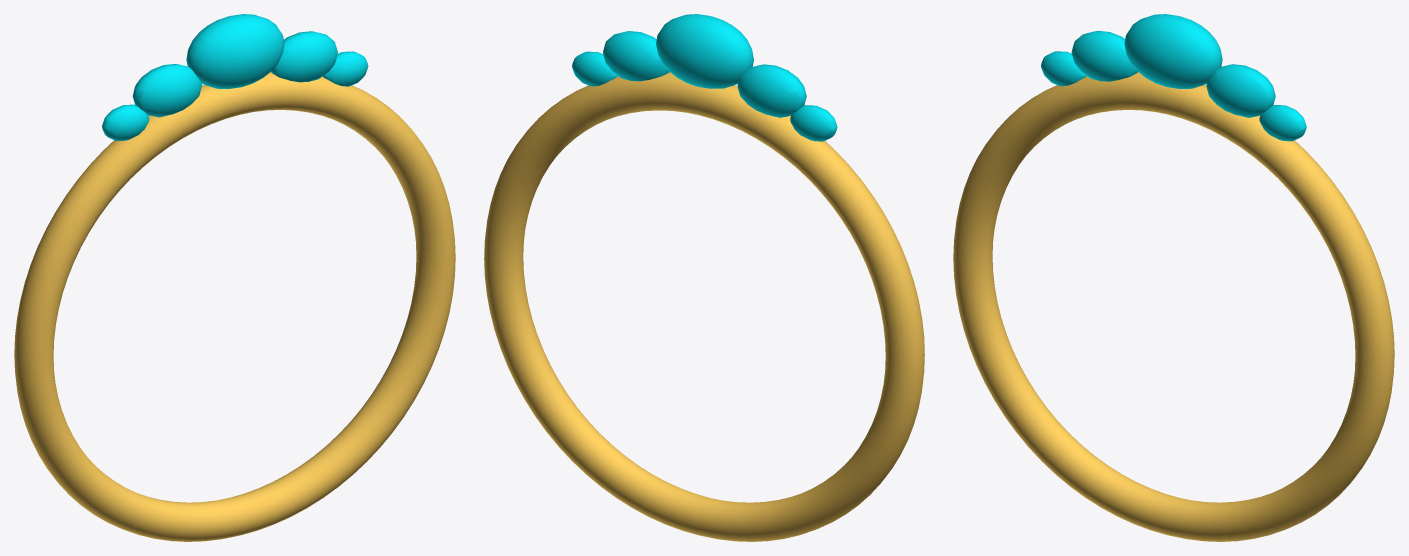
Rendered from RewardItem_Bracelet.fbx.
The picture shows the model from 3 angles, left to right: view 1: azimuth 30°, elevation 25°; view 2: azimuth 150°, elevation 25°; view 3: azimuth 330°, elevation 25°; orthographic projection.
Parts seen in each view (by area): view 1: Charms, Bracelet; view 2: Charms, Bracelet; view 3: Charms, Bracelet.
Boxes of the visible parts, box(x1,y1,x2,y2) form: Charms: box(14, 72, 455, 541); Bracelet: box(102, 14, 368, 140); Charms: box(484, 72, 924, 541); Bracelet: box(572, 14, 837, 141); Charms: box(953, 72, 1394, 541); Bracelet: box(1041, 14, 1306, 141).
Size of the model in its own units: 217 by 246 by 25.64.
